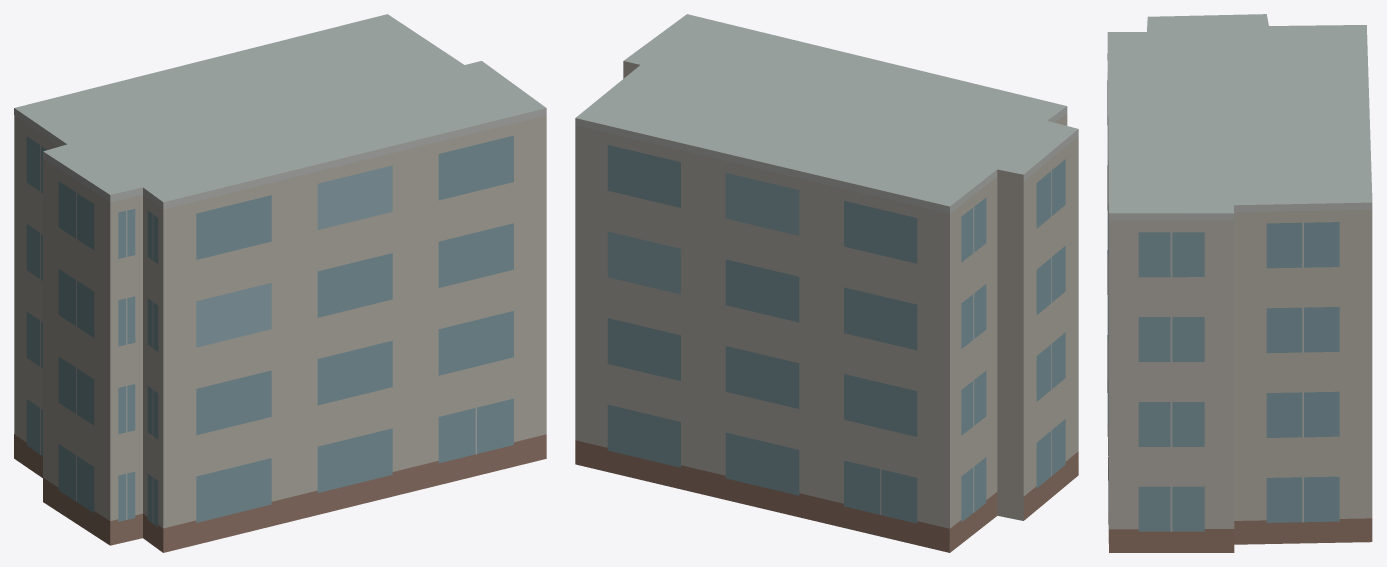
Rendered from survey-upis-32939071.glb.
3 views of the same model, side by side, from view 1: azimuth 30°, elevation 25°; view 2: azimuth 150°, elevation 25°; view 3: azimuth 270°, elevation 25° (orthographic). The views are drawn at different scales.
Parts seen in each view (by area): view 1: survey-upis-32939071.tmp; view 2: survey-upis-32939071.tmp; view 3: survey-upis-32939071.tmp.
Part boxes in pixels (x1,y1,x2,y2): survey-upis-32939071.tmp: (14,14,546,552); survey-upis-32939071.tmp: (575,14,1078,552); survey-upis-32939071.tmp: (1107,14,1372,552).
Bounding box in the file's own units: 15.01 × 11.9 × 8.43.
